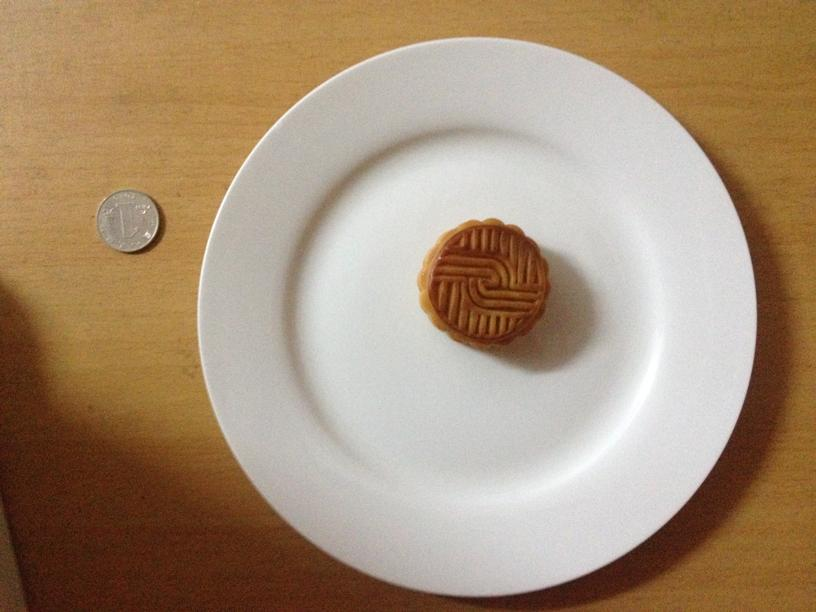coin: (94, 188, 161, 251)
mooncake: (419, 217, 551, 349)
